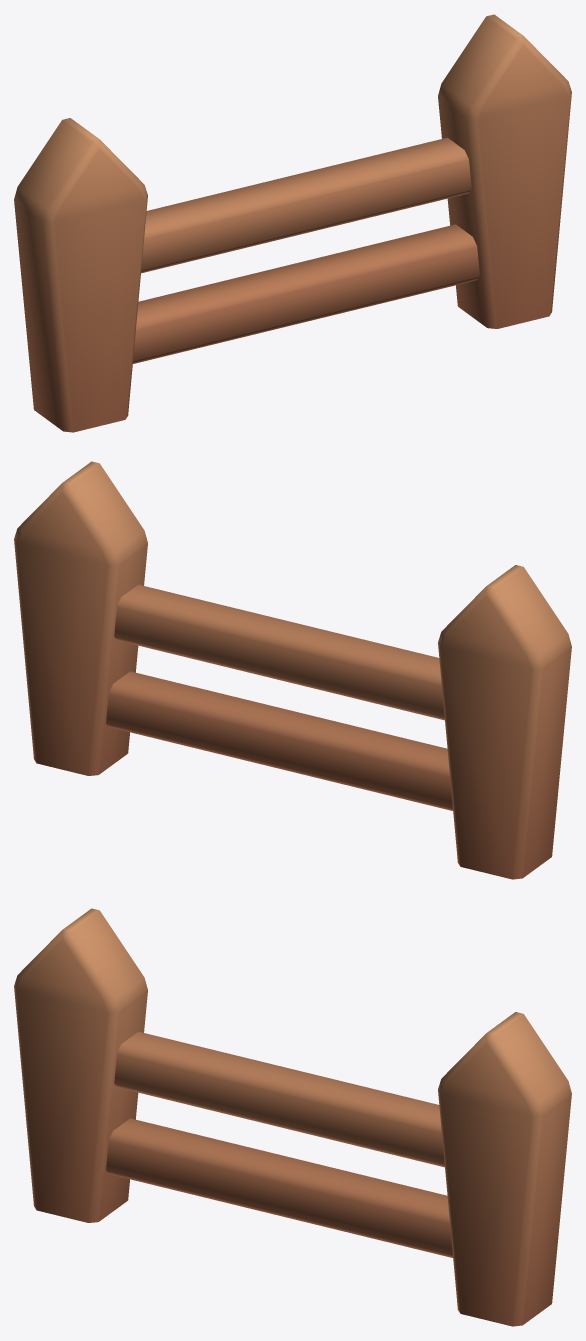
File: fence_wide_long.fbx
3 views of the same model, one above another, from view 1: azimuth 30°, elevation 25°; view 2: azimuth 150°, elevation 25°; view 3: azimuth 330°, elevation 25° (orthographic).
Parts seen in each view (by area): view 1: fence_wide_long; view 2: fence_wide_long; view 3: fence_wide_long.
Part boxes in pixels (<box>): fence_wide_long: <box>14,14,571,432</box>; fence_wide_long: <box>14,461,571,879</box>; fence_wide_long: <box>14,908,571,1326</box>.
Bounding box in the file's own units: 249 × 128 × 30.
